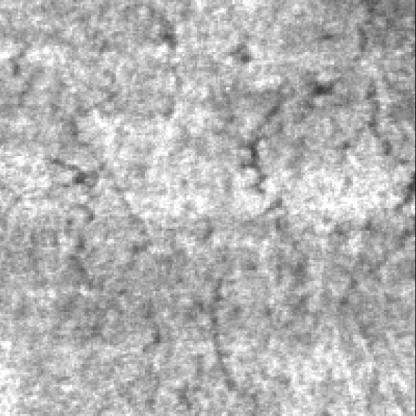crazing: (248, 2, 416, 307), (144, 14, 268, 416), (210, 41, 343, 350), (52, 73, 168, 357)
